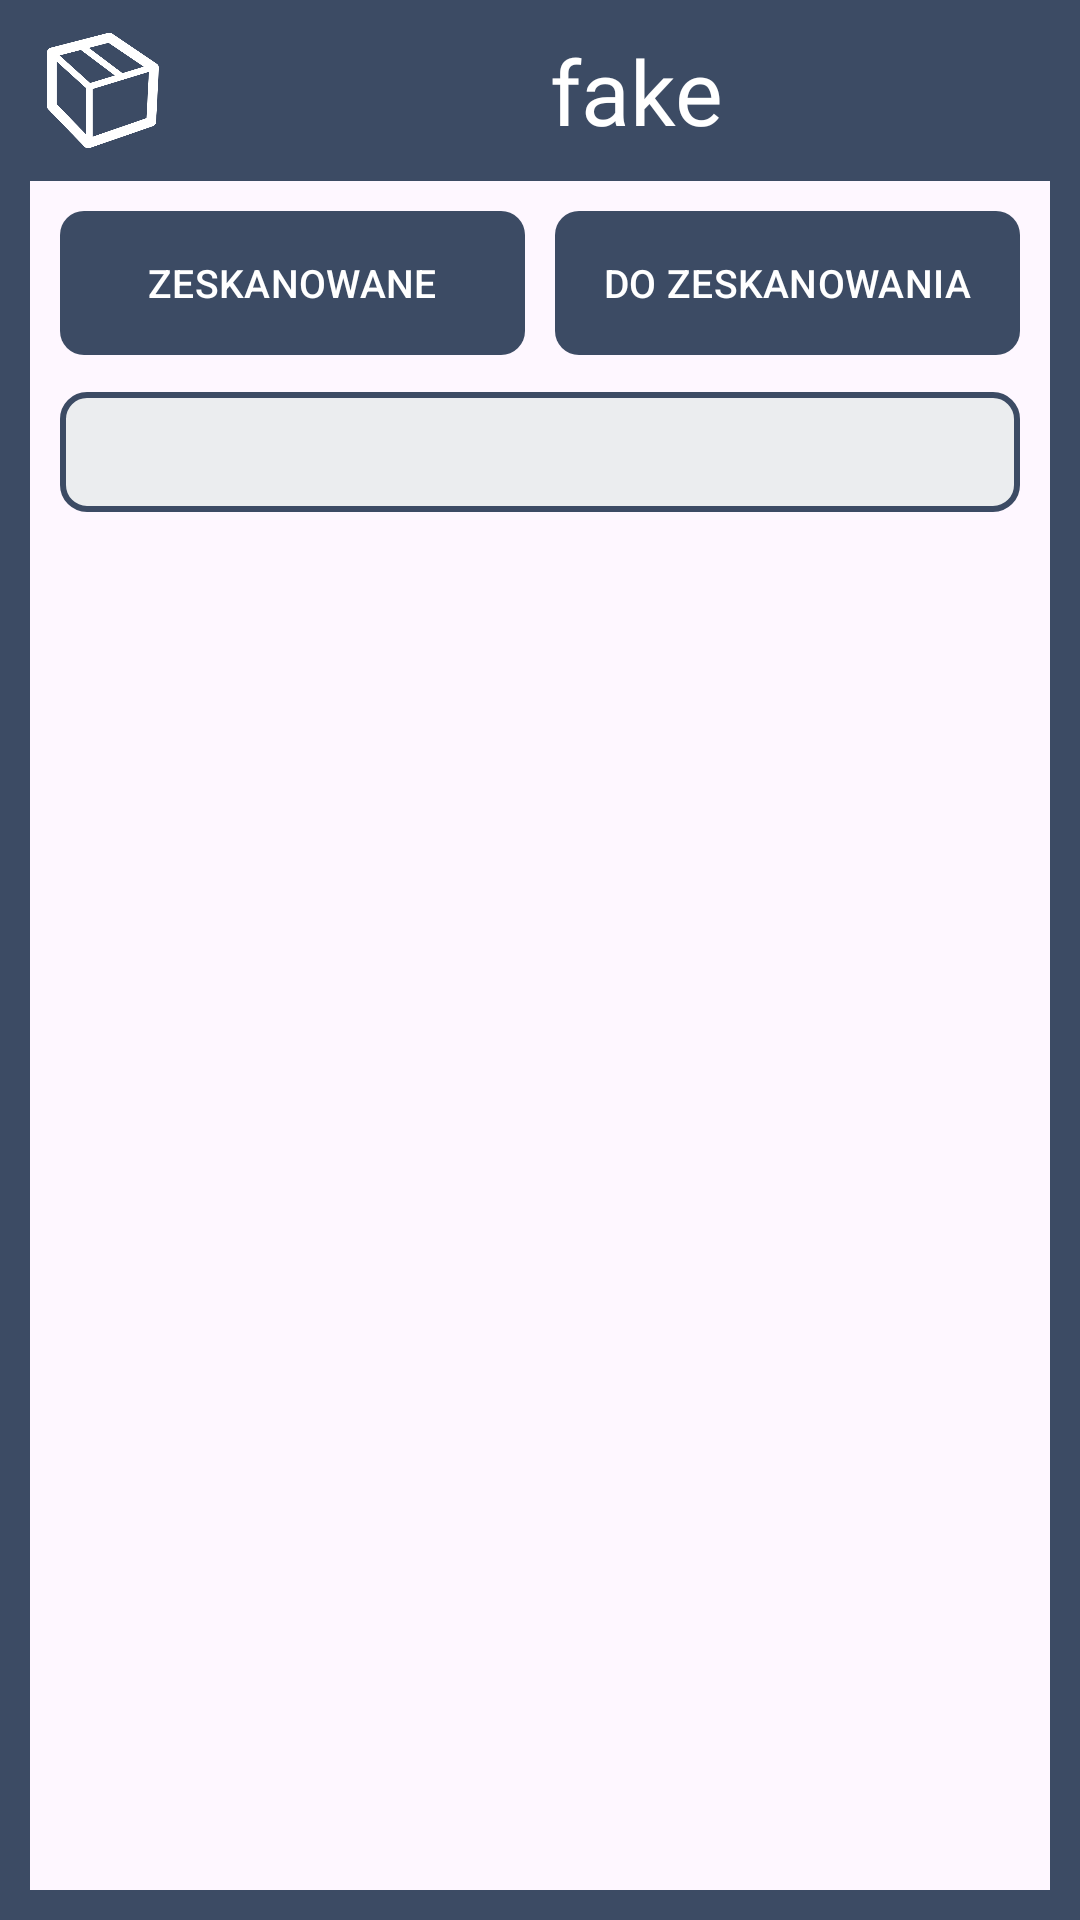

Named icons in this screenshot (1080x1920) and their bounding boxes, (x1, y1, x2, y2):
inwento: (47, 33, 159, 148)
